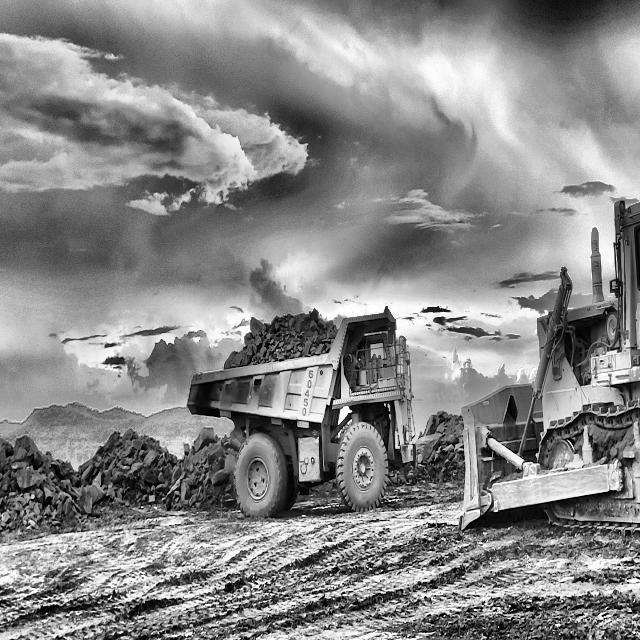buldozerpayloadergrader: (460, 200, 640, 529)
dump_truck: (190, 311, 412, 520)
